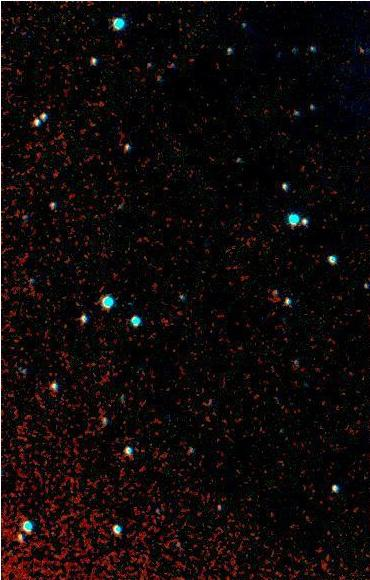star: (345, 35, 370, 65)
